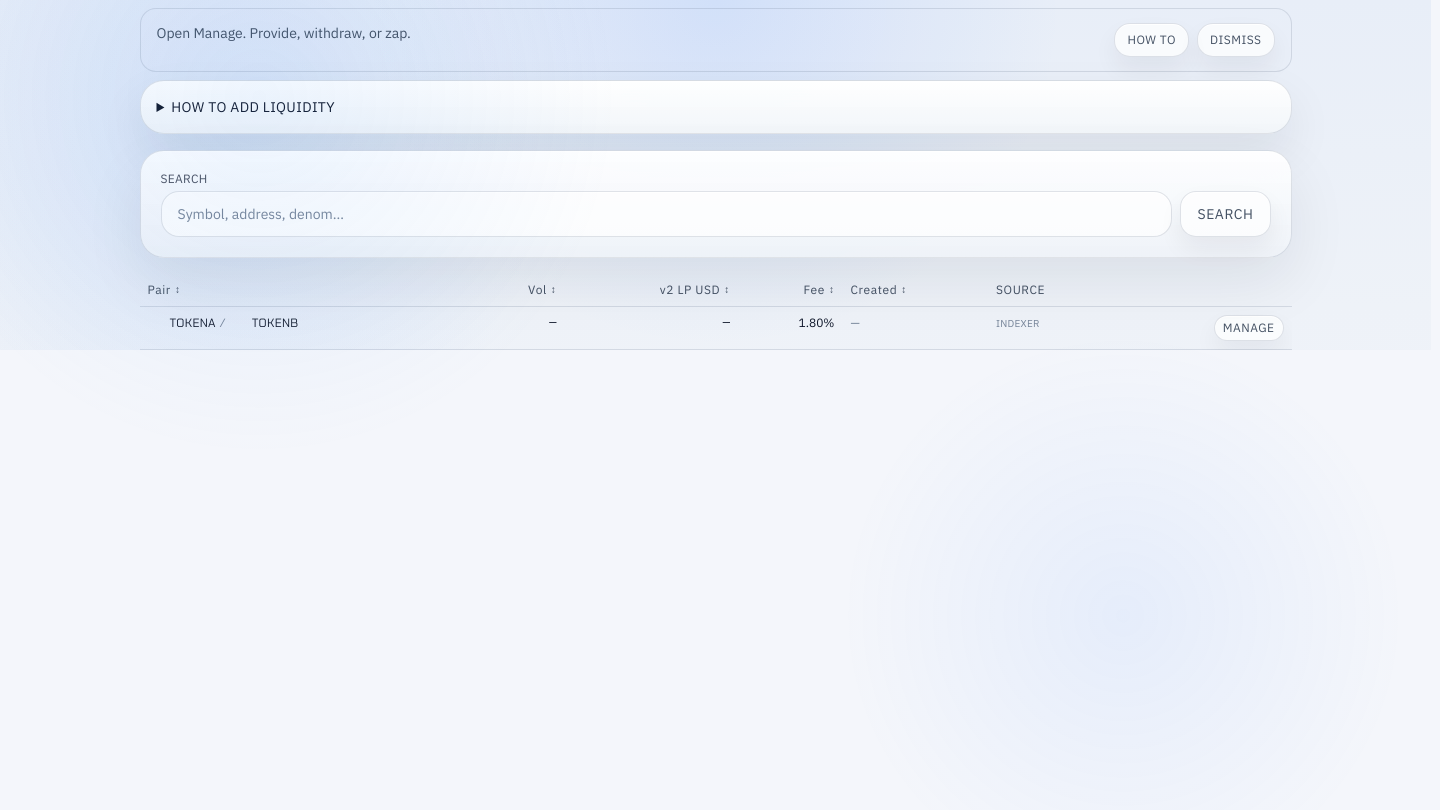
Test: PoolPage fee-discount UX (GitLab #476) › shows unregistered CTA and not-registered hint when wallet is unregistered
Step 1. Click the button with test id "pool-row-manage" → {"x": 1249, "y": 328}, box [1214,315,1284,341]
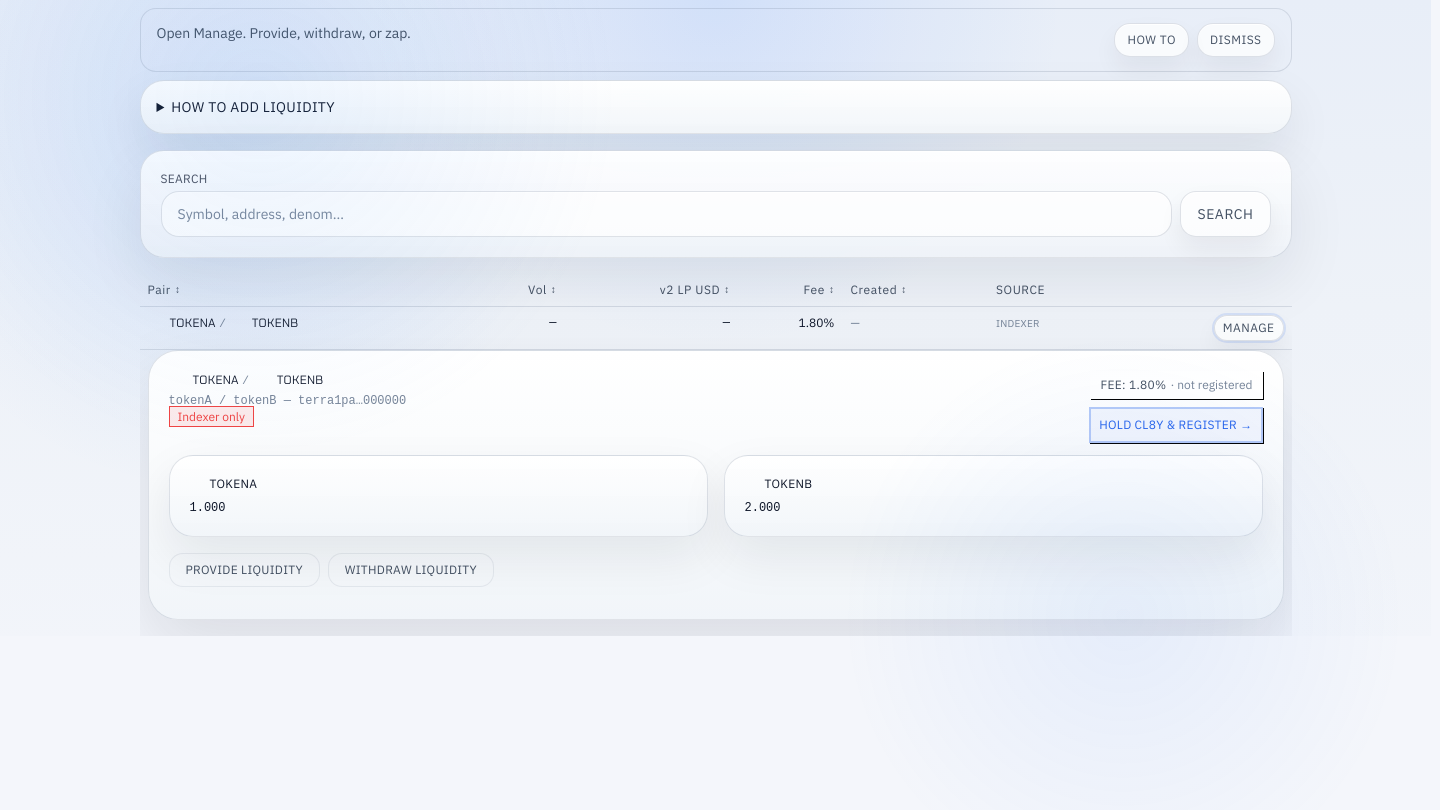
Expected: the element with test id "pool-fee-discount-unregistered-cta" reads "Hold CL8Y & register →", [1099,417,1252,432]
Expected: the element with test id "pool-fee-badge" shows "1.80%", [1090,371,1262,399]
Expected: the element with test id "pool-fee-badge" shows "not registered", [1170,377,1252,392]
